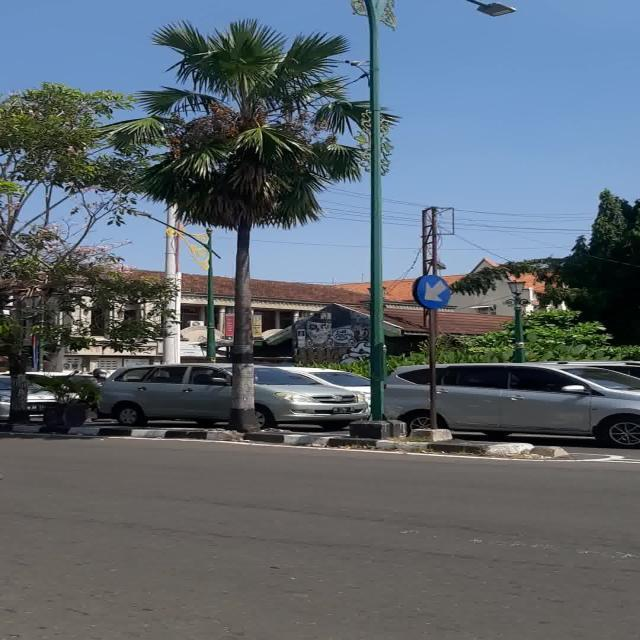Lajur Kiri: (416, 274, 449, 308)
